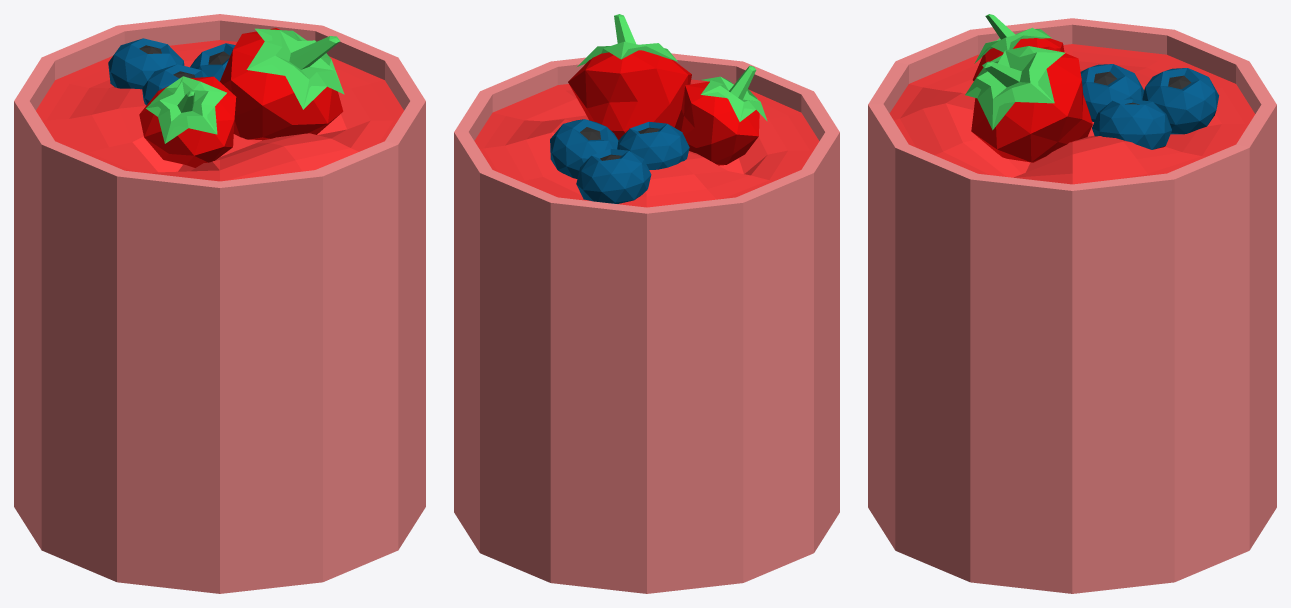
Rendered from Smoothie.fbx.
The picture shows the model from 3 angles, left to right: view 1: azimuth 30°, elevation 25°; view 2: azimuth 150°, elevation 25°; view 3: azimuth 270°, elevation 25°; orthographic projection. The views are drawn at different scales.
Visible parts, largest first — view 1: Smoothie_LOD0; view 2: Smoothie_LOD0; view 3: Smoothie_LOD0.
Part boxes in pixels (x1,y1,x2,y2): Smoothie_LOD0: [14, 14, 425, 593]; Smoothie_LOD0: [454, 14, 839, 593]; Smoothie_LOD0: [868, 14, 1276, 593].
Size of what is drawn, in the model's own units: 80 by 104 by 80.
